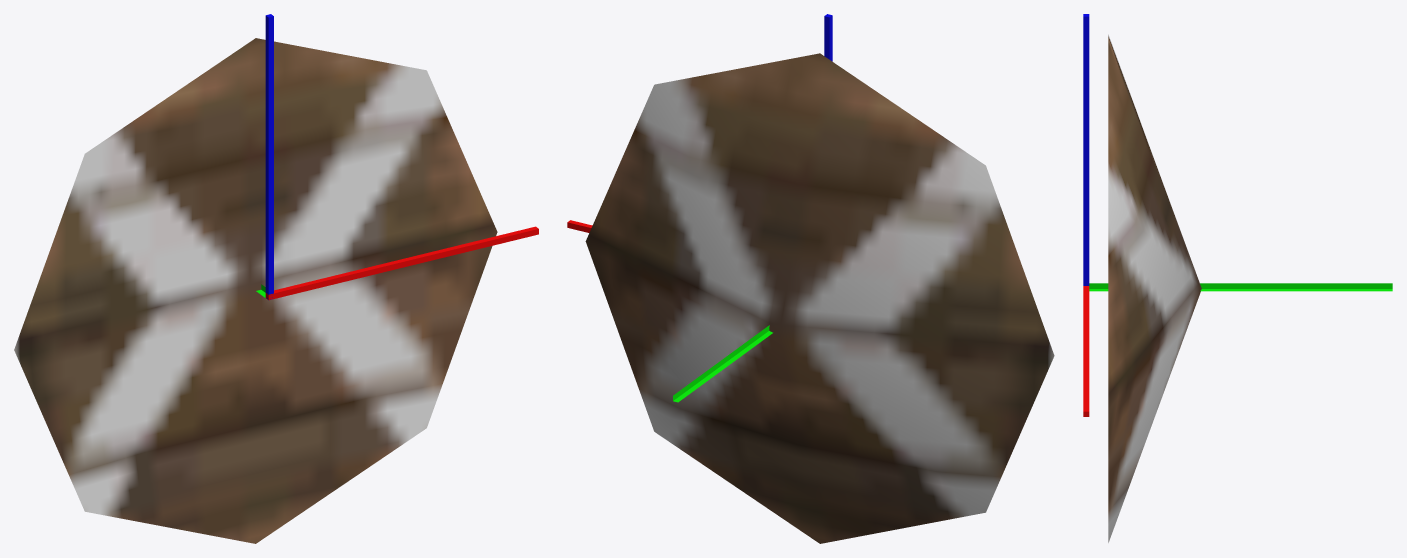
File: shield.glb
3 views of the same model, side by side, from view 1: azimuth 30°, elevation 25°; view 2: azimuth 150°, elevation 25°; view 3: azimuth 270°, elevation 25° (orthographic). The views are drawn at different scales.
Parts seen in each view (by area): view 1: attachments e shield small copperModel, Dummy_hotspot; view 2: attachments e shield small copperModel, Dummy_hotspot; view 3: attachments e shield small copperModel, Dummy_hotspot.
Boxes of the visible parts, box(x1,y1,x2,y2) form: attachments e shield small copperModel: box(14, 38, 497, 543); Dummy_hotspot: box(256, 14, 538, 300); attachments e shield small copperModel: box(585, 53, 1054, 543); Dummy_hotspot: box(567, 14, 832, 402); attachments e shield small copperModel: box(1108, 34, 1201, 542); Dummy_hotspot: box(1083, 14, 1392, 416).
Bounding box in the file's own units: 0.4736 × 0.4736 × 0.255.
2 materials, 1 textured.
